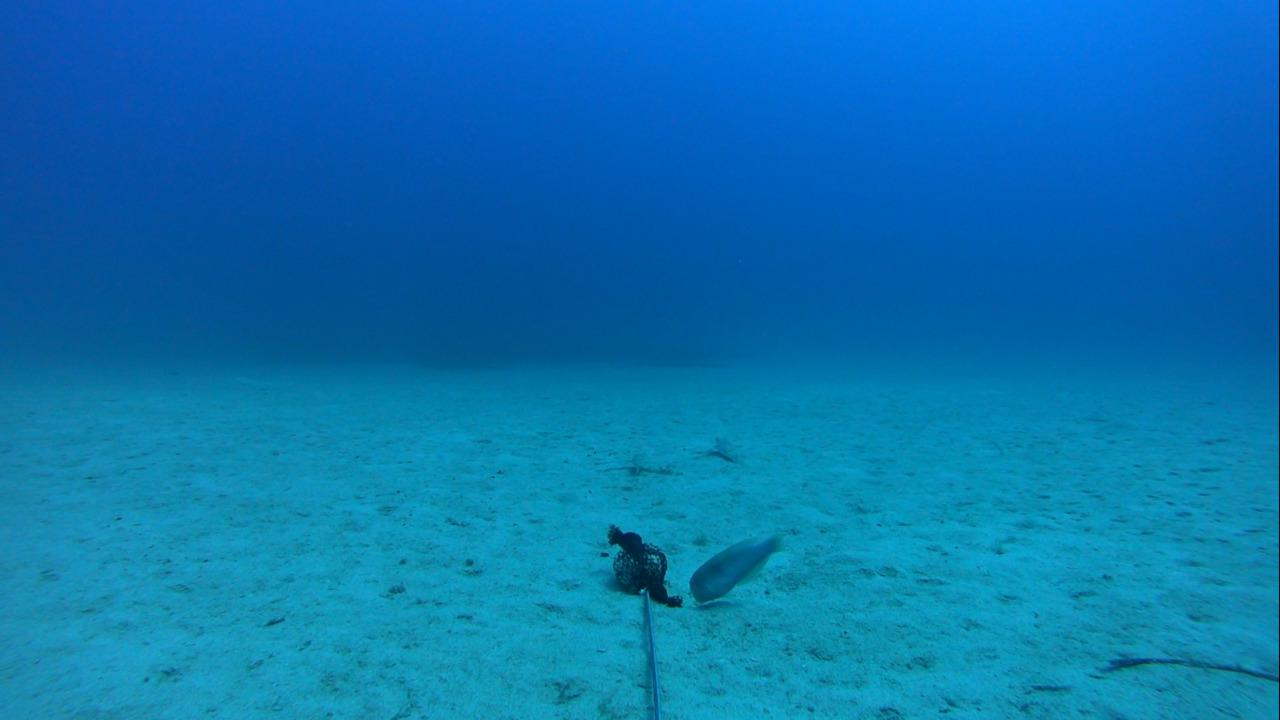dactylopterus: (597, 446, 691, 490), (687, 433, 757, 475)
raor: (689, 531, 782, 604)
